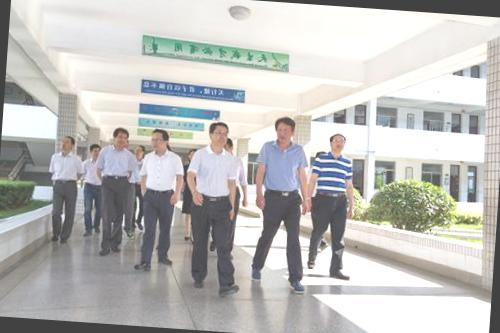no_helmet: (204, 116, 231, 150), (270, 114, 298, 144), (148, 125, 173, 153), (329, 128, 352, 156), (108, 124, 131, 148), (56, 132, 78, 156), (88, 140, 104, 162), (131, 142, 146, 164)
